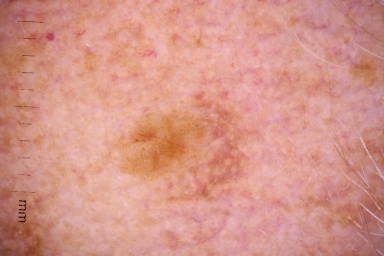melanoma: (119, 114, 209, 183)
